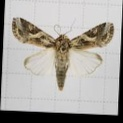Spodoptera litura: (10, 18, 113, 91)
